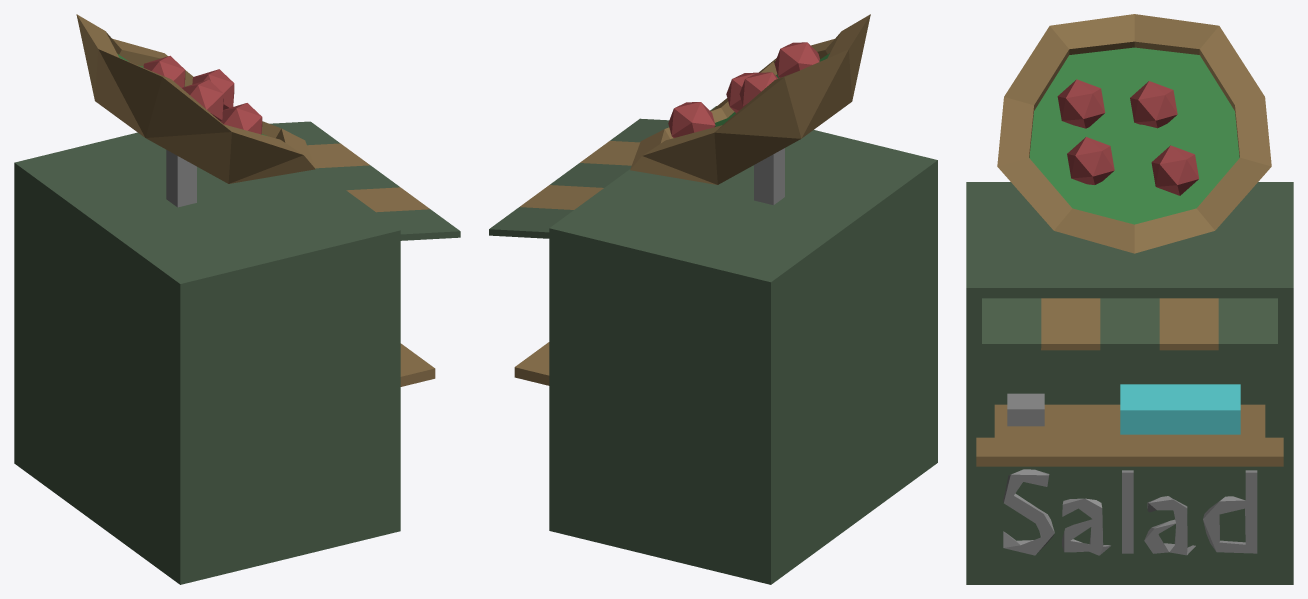
Rendered from SaladShop.fbx.
3 renders of one model, left to right at view 1: azimuth 30°, elevation 25°; view 2: azimuth 150°, elevation 25°; view 3: azimuth 270°, elevation 25°, orthographic.
Visible parts, largest first — view 1: Cube, Icosphere, Cube.003; view 2: Cube, Icosphere, Cube.003; view 3: Cube, Icosphere, Cube.003, Cube.001, Cube.002.
Boxes of the visible parts, <box> form: Cube: <box>14,132,435,584</box>; Icosphere: <box>76,14,315,207</box>; Cube.003: <box>269,121,460,240</box>; Cube: <box>514,106,937,584</box>; Icosphere: <box>630,14,870,205</box>; Cube.003: <box>489,118,669,238</box>; Cube: <box>966,182,1293,584</box>; Icosphere: <box>997,14,1271,253</box>; Cube.003: <box>982,298,1277,350</box>; Cube.001: <box>1120,384,1240,434</box>; Cube.002: <box>1007,393,1044,426</box>.
Size of the model in its own units: 179 by 280 by 178.
